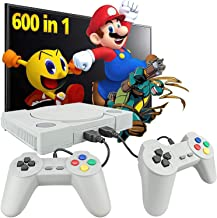gamingconsole: (4, 152, 110, 218), (137, 131, 217, 218)
